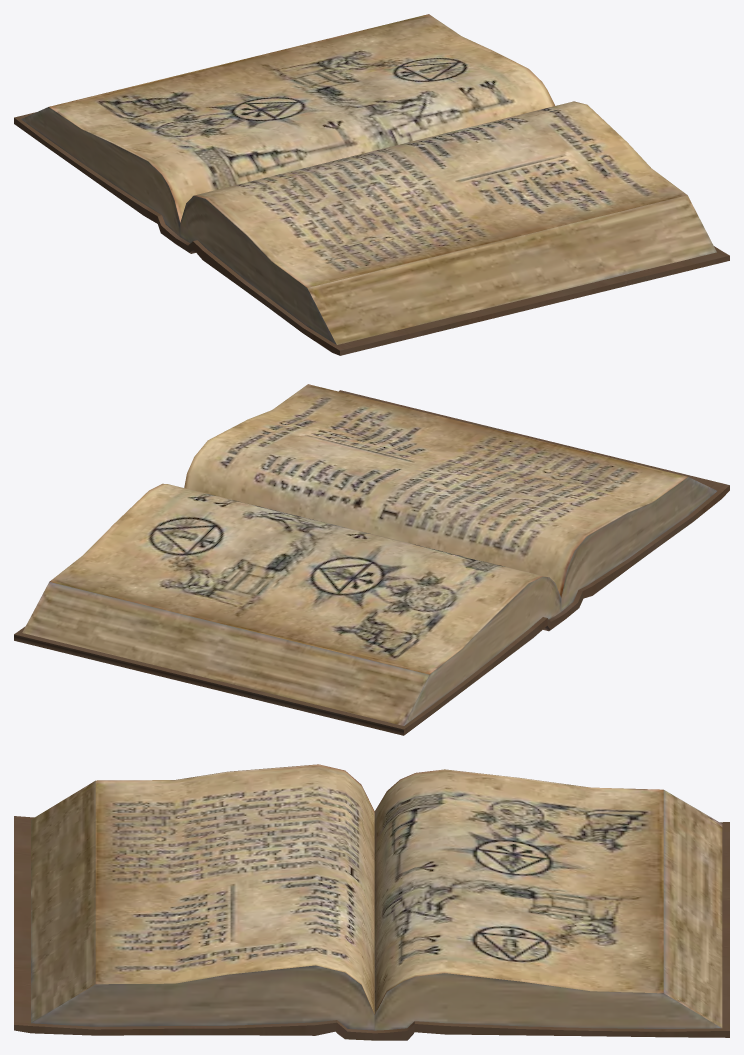
File: livro.glb
The picture shows the model from 3 angles, top to bottom: view 1: azimuth 30°, elevation 25°; view 2: azimuth 150°, elevation 25°; view 3: azimuth 270°, elevation 25°; orthographic projection. The views are drawn at different scales.
Parts seen in each view (by area): view 1: BookOpen_LP_01 - Default_0; view 2: BookOpen_LP_01 - Default_0; view 3: BookOpen_LP_01 - Default_0.
Part boxes in pixels (x1,y1,x2,y2): BookOpen_LP_01 - Default_0: (14,14,729,355); BookOpen_LP_01 - Default_0: (14,384,729,735); BookOpen_LP_01 - Default_0: (14,764,729,1040).
Size of the model in its own units: 33.74 by 5.53 by 48.89.
1 material, 1 textured.
